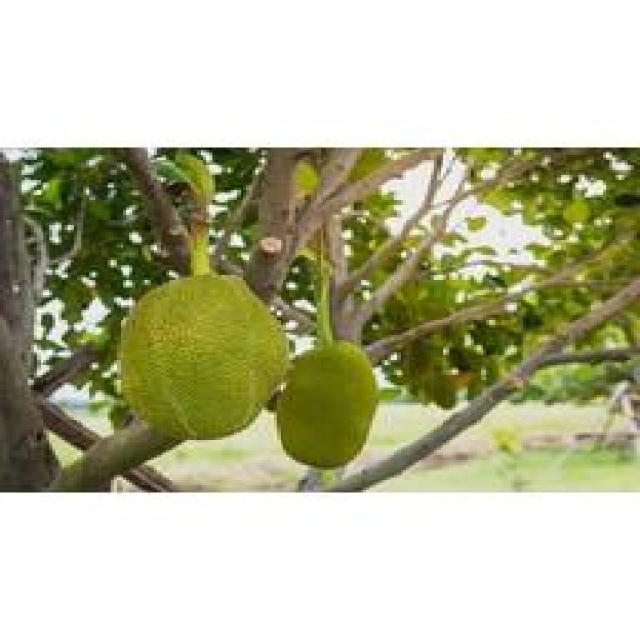Fruit: (111, 265, 298, 445), (270, 338, 384, 470)
